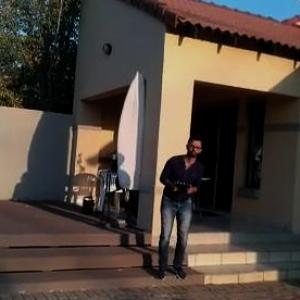follow: (154, 129, 204, 283)
